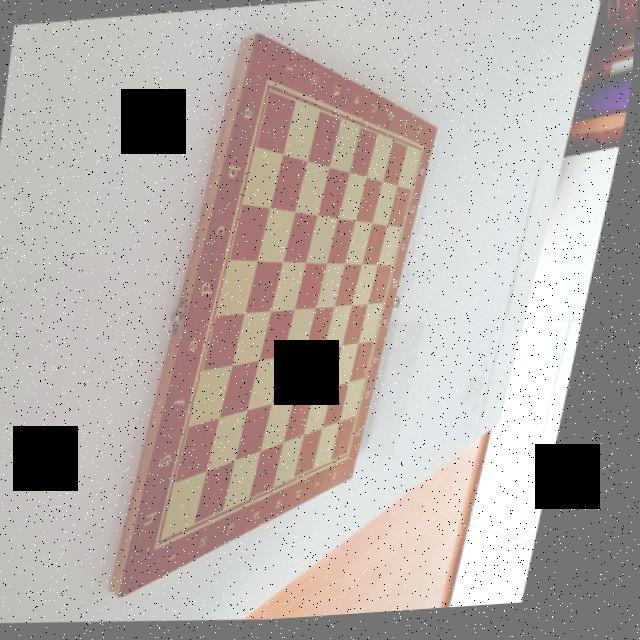chess-table-corners: (258, 72, 284, 102), (166, 527, 186, 554), (355, 448, 370, 468), (420, 141, 434, 162)
